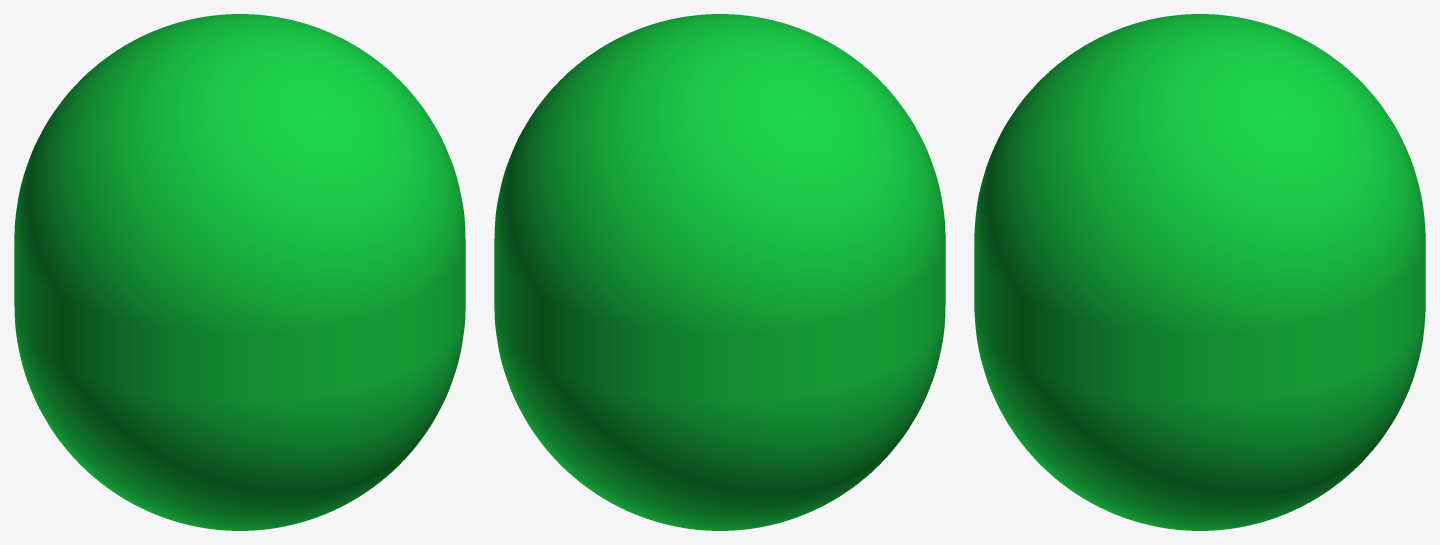
The model's file is green bullet.fbx.
3 renders of one model, left to right at view 1: azimuth 30°, elevation 25°; view 2: azimuth 150°, elevation 25°; view 3: azimuth 270°, elevation 25°, orthographic.
Visible parts, largest first — view 1: root; view 2: root; view 3: root.
Part boxes in pixels (x1,y1,x2,y2): root: (14, 14, 465, 530); root: (494, 14, 945, 530); root: (974, 14, 1425, 530).
Bounding box in the file's own units: 0.1399 × 0.1624 × 0.1399.
1 material, 1 textured.
